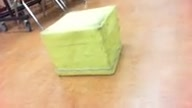cube: (40, 4, 122, 76)
